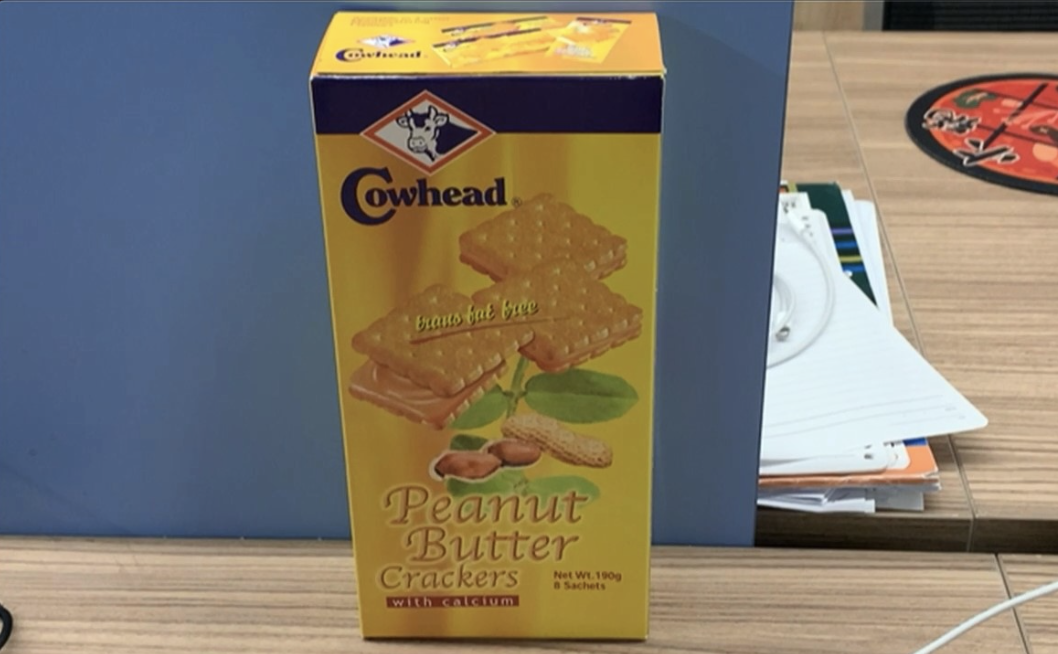crackers_150g: (347, 103, 634, 625)
